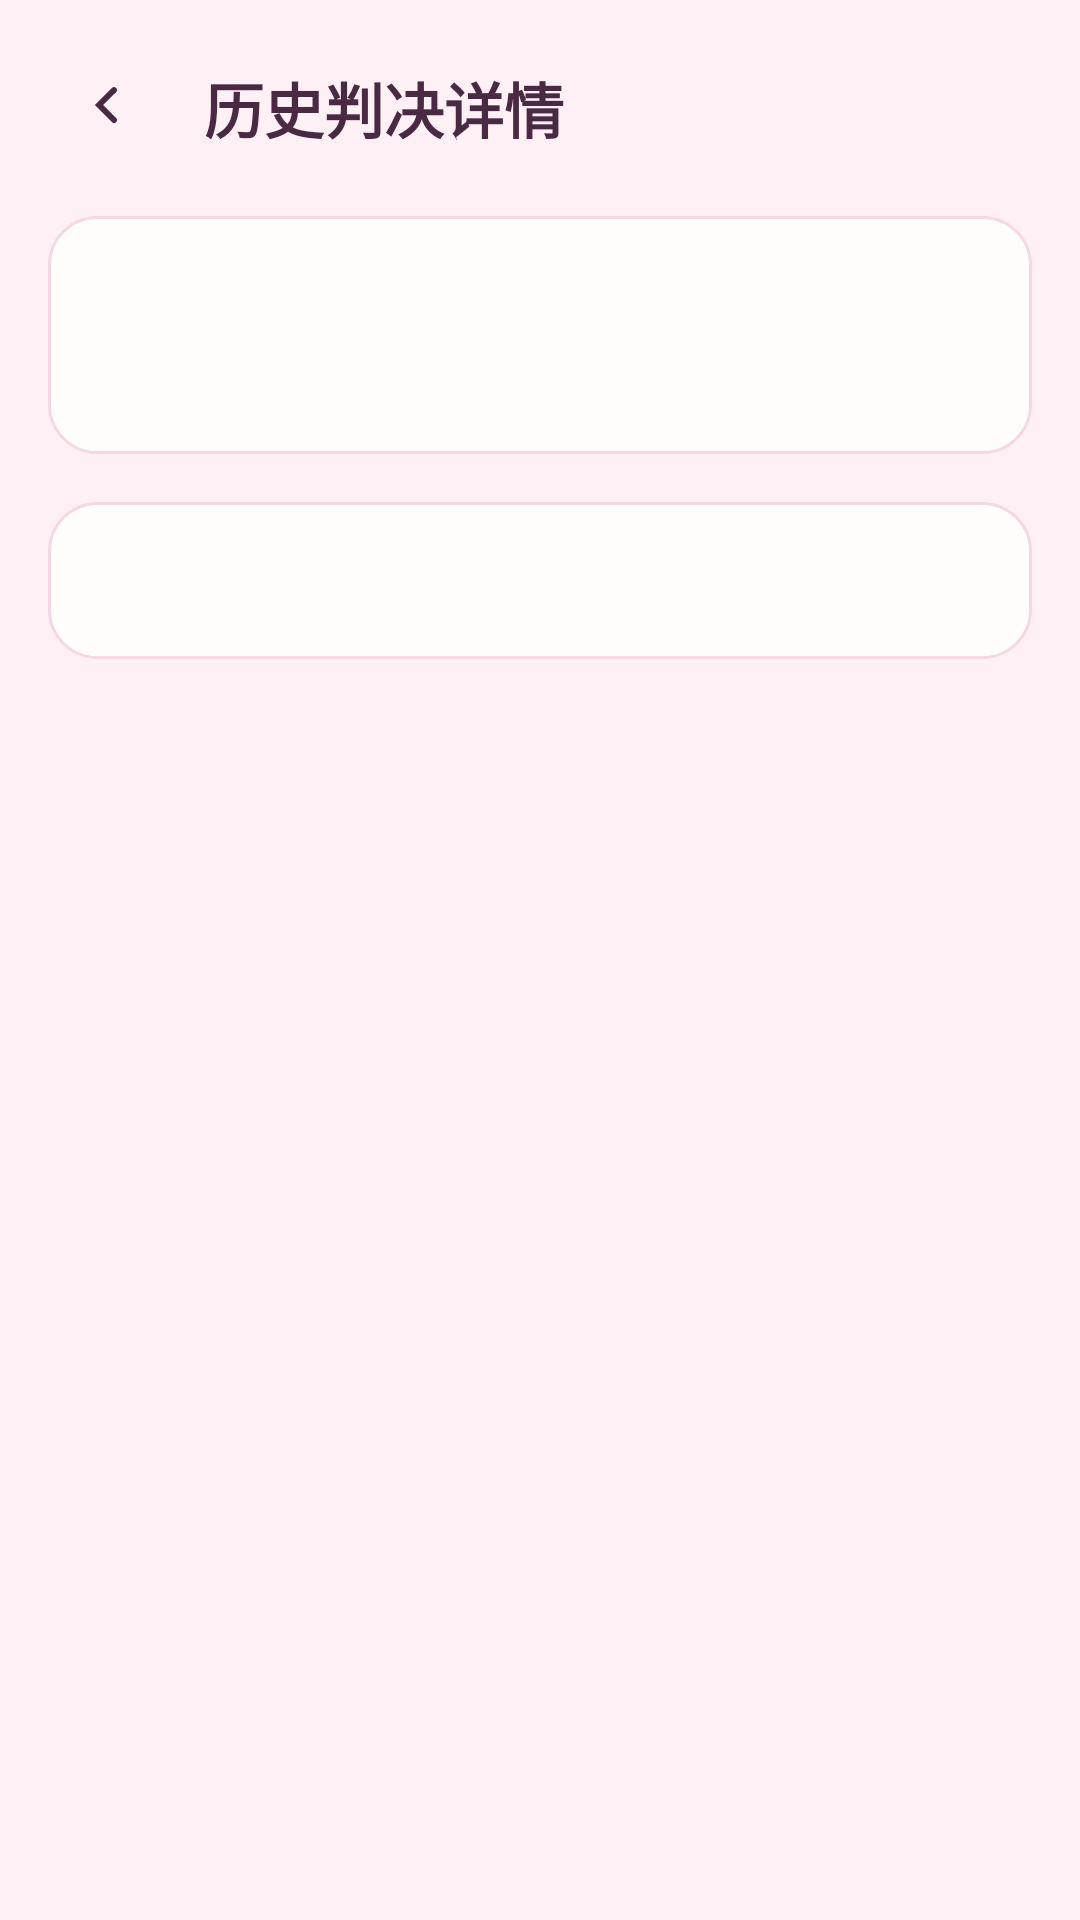

Icons on this 1080×1920 Android screen, each with the point to tap as point (x, y):
返回: point (106, 105)
